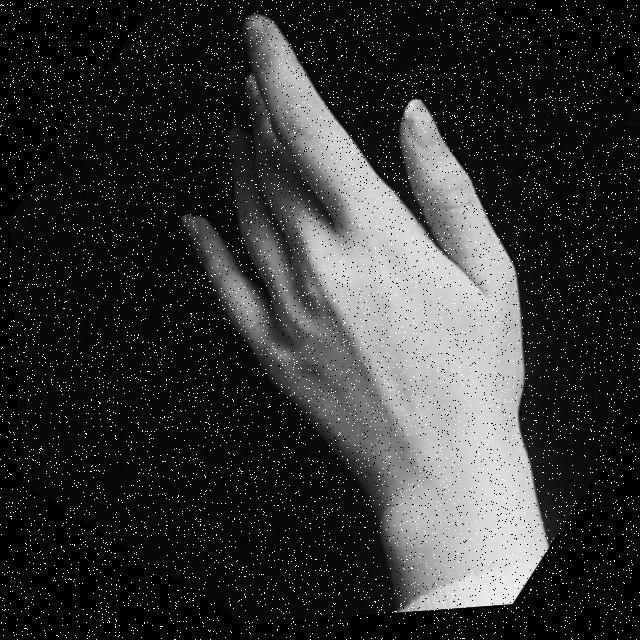no-gloves: (47, 0, 630, 557)
